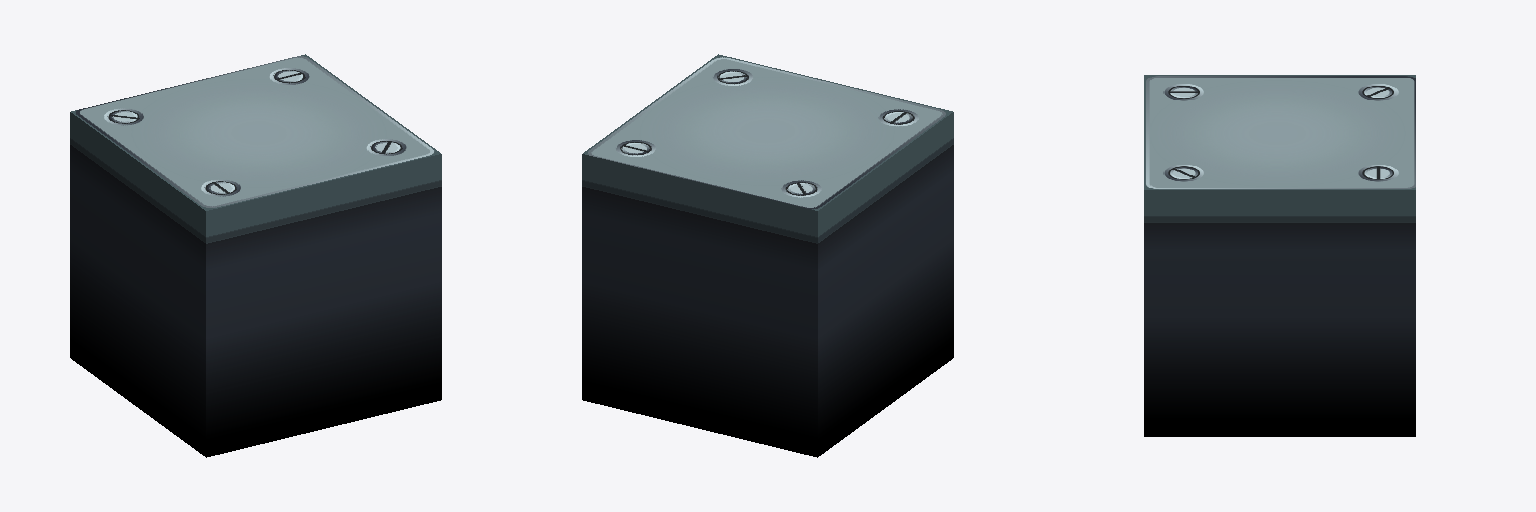
3 renders of one model, left to right at view 1: azimuth 30°, elevation 25°; view 2: azimuth 150°, elevation 25°; view 3: azimuth 270°, elevation 25°, orthographic.
Parts seen in each view (by area): view 1: Floor_Block_Cube; view 2: Floor_Block_Cube; view 3: Floor_Block_Cube.
Boxes of the visible parts, x1,y1,x2,y2 form: Floor_Block_Cube: [70, 54, 441, 457]; Floor_Block_Cube: [582, 54, 953, 457]; Floor_Block_Cube: [1144, 75, 1415, 436].
Bounding box in the file's own units: 2 × 2 × 2.
1 materials, 1 textured.